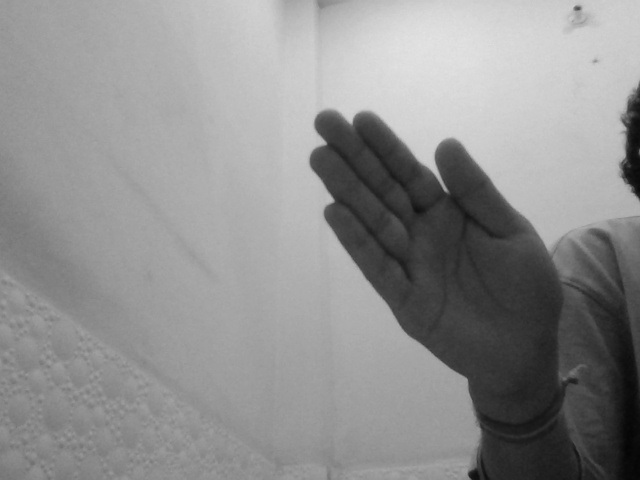Hello: (308, 102, 560, 393)
